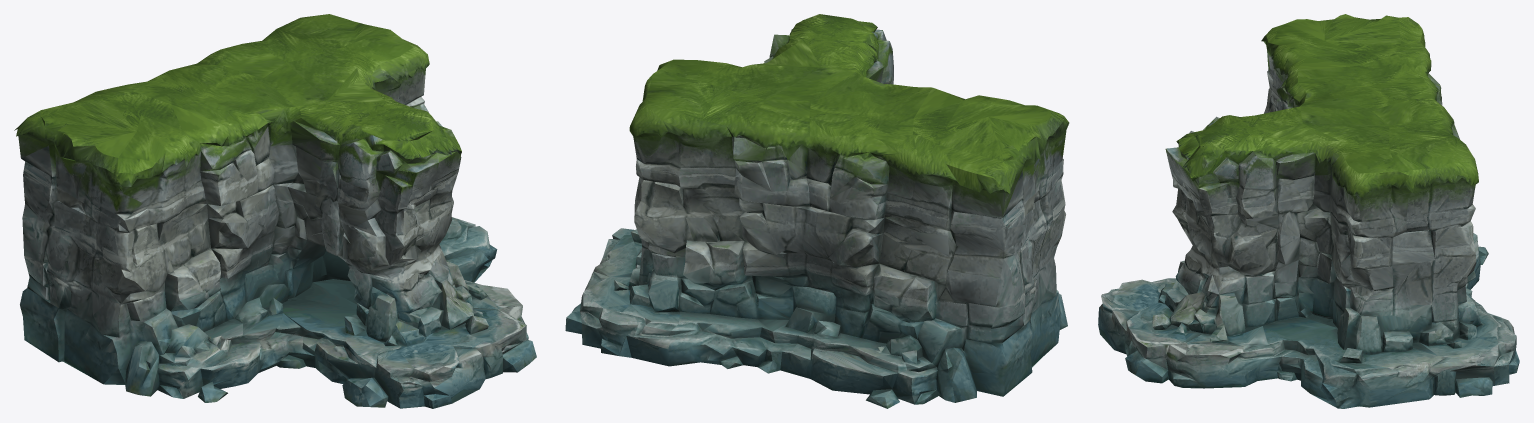
3 views of the same model, side by side, from view 1: azimuth 30°, elevation 25°; view 2: azimuth 150°, elevation 25°; view 3: azimuth 270°, elevation 25° (orthographic). The views are drawn at different scales.
Visible parts, largest first — view 1: sea_cliff; view 2: sea_cliff; view 3: sea_cliff.
Boxes of the visible parts, x1,y1,x2,y2 form: sea_cliff: (14,14,536,408); sea_cliff: (565,14,1069,408); sea_cliff: (1098,14,1519,408).
Bounding box in the file's own units: 0.9818 × 0.5021 × 0.905.
1 material, 1 textured.
